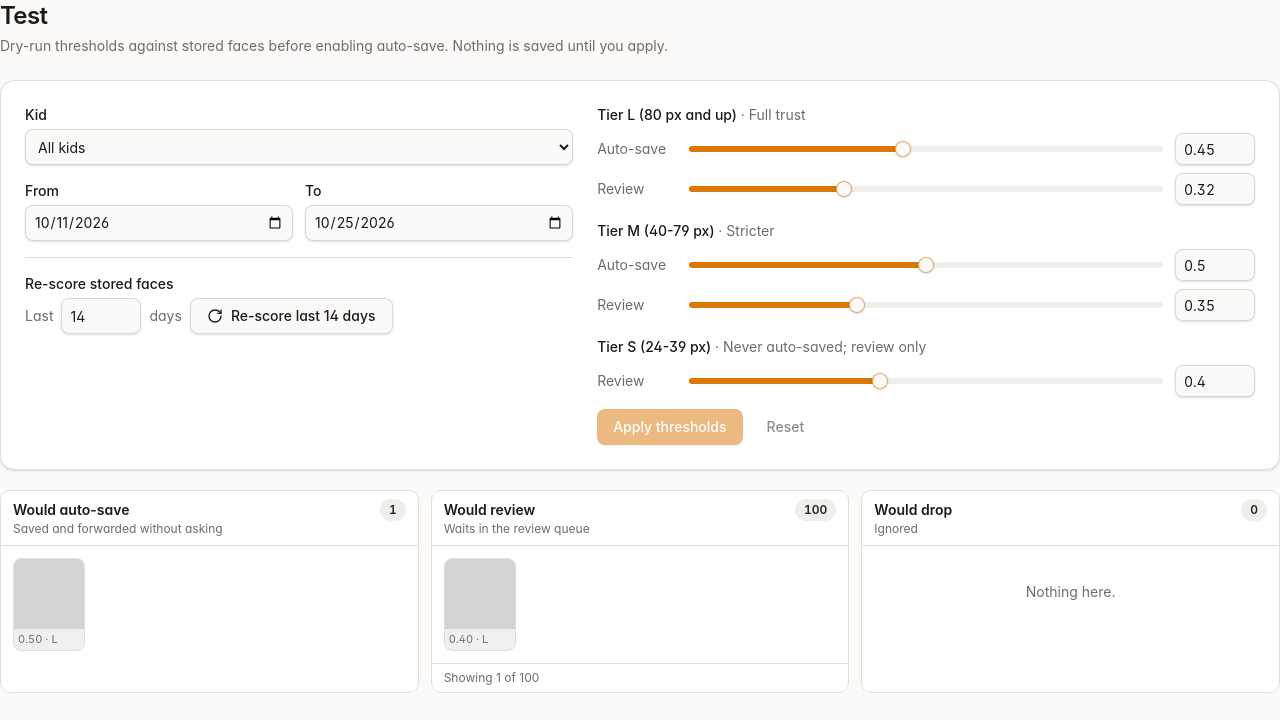
Test: TestPage › flags a crop as wrong
This screenshot has width=1280, height=720.
Click the button named "Face 1,": (49, 604) [13,558,85,651]
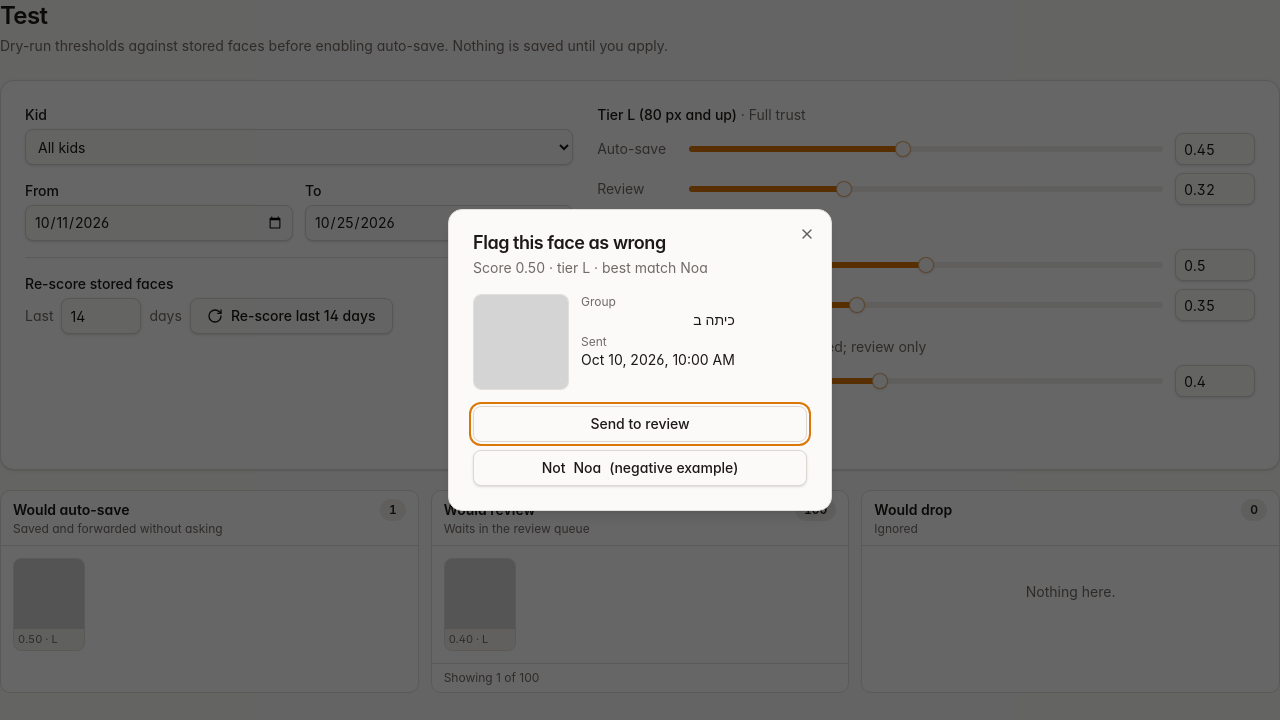
Click the button "Send to review": (640, 424) [473,406,807,442]
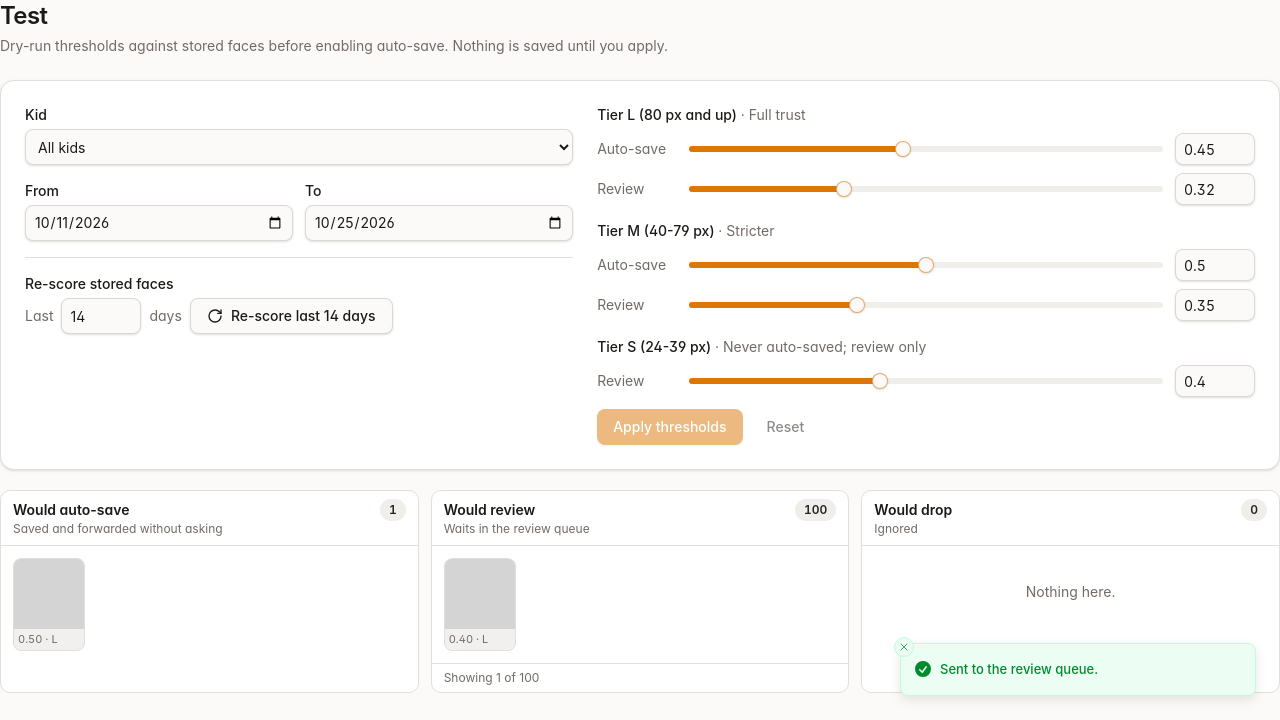
Result: the text "Sent to the review queue." is shown at [940,660,1098,679]
